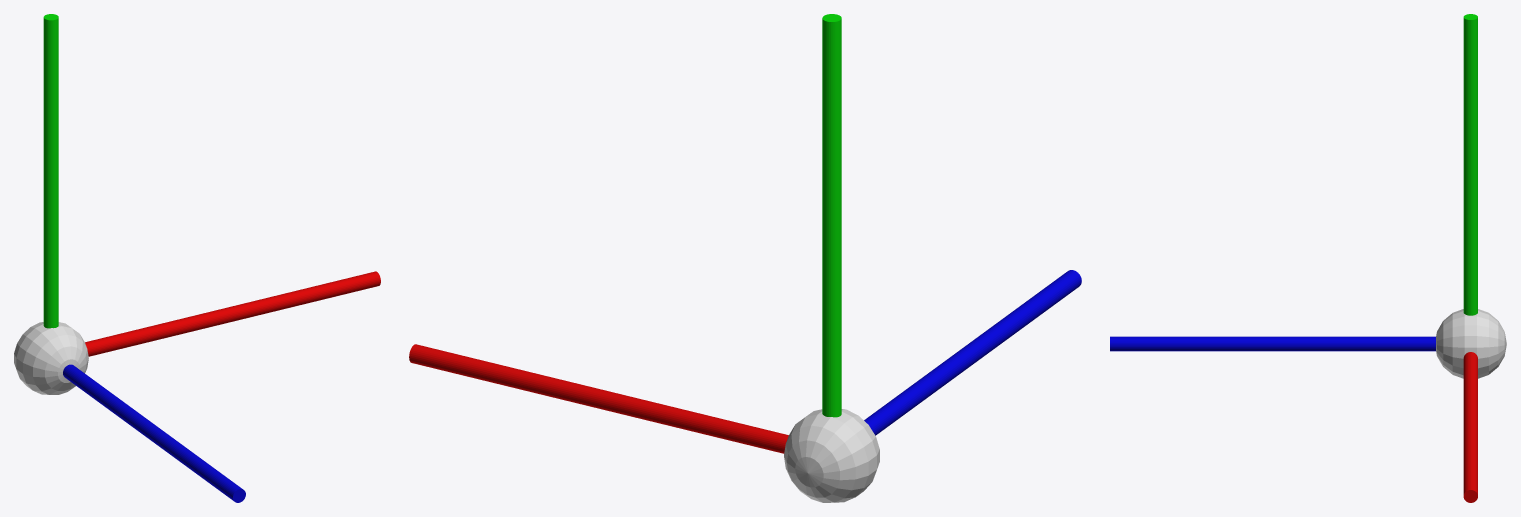
Rendered from origin.glb.
3 renders of one model, left to right at view 1: azimuth 30°, elevation 25°; view 2: azimuth 150°, elevation 25°; view 3: azimuth 270°, elevation 25°, orthographic. The views are drawn at different scales.
Parts seen in each view (by area): view 1: world; view 2: world; view 3: world.
Part boxes in pixels (x1=…): world: x1=14, y1=14, x2=380, y2=502; world: x1=409, y1=14, x2=1081, y2=502; world: x1=1110, y1=14, x2=1506, y2=502.
Size of the model in its own units: 10.97 by 10.98 by 11.
